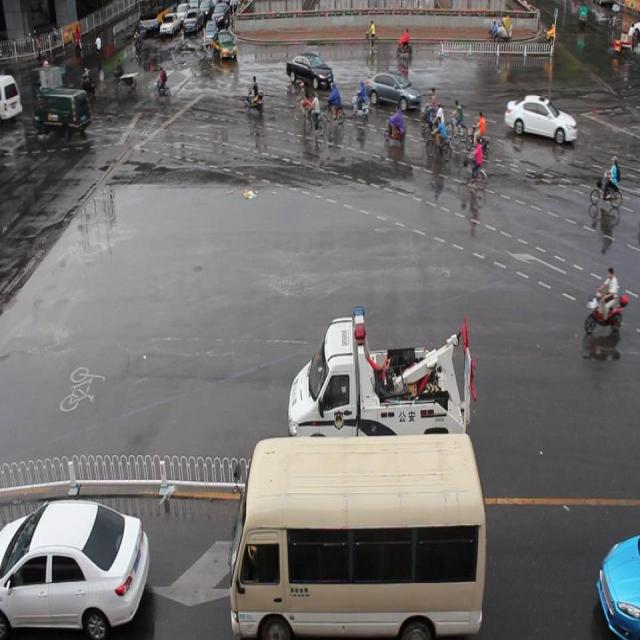bus: (288, 305, 474, 467)
car: (1, 494, 150, 640), (595, 528, 639, 640), (503, 91, 577, 145), (365, 68, 421, 112), (284, 48, 334, 89), (211, 29, 237, 62)
truck: (228, 429, 485, 640)
